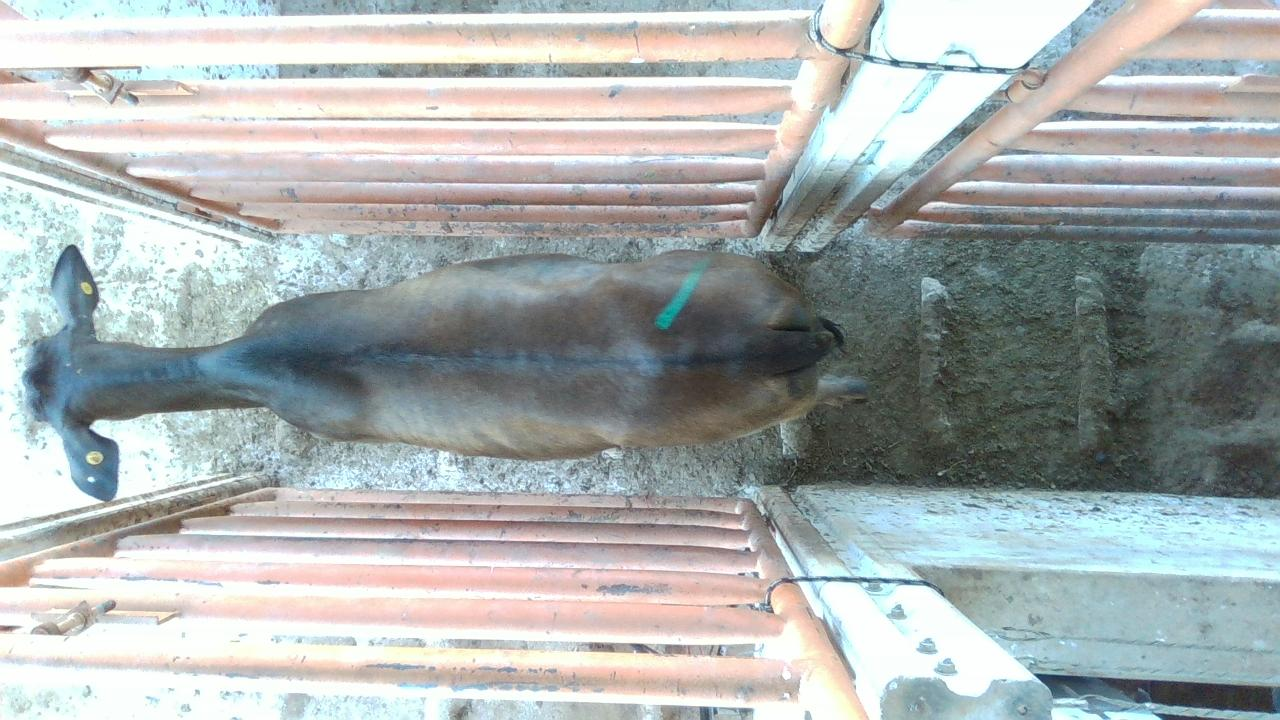cattle: (21, 243, 870, 500)
